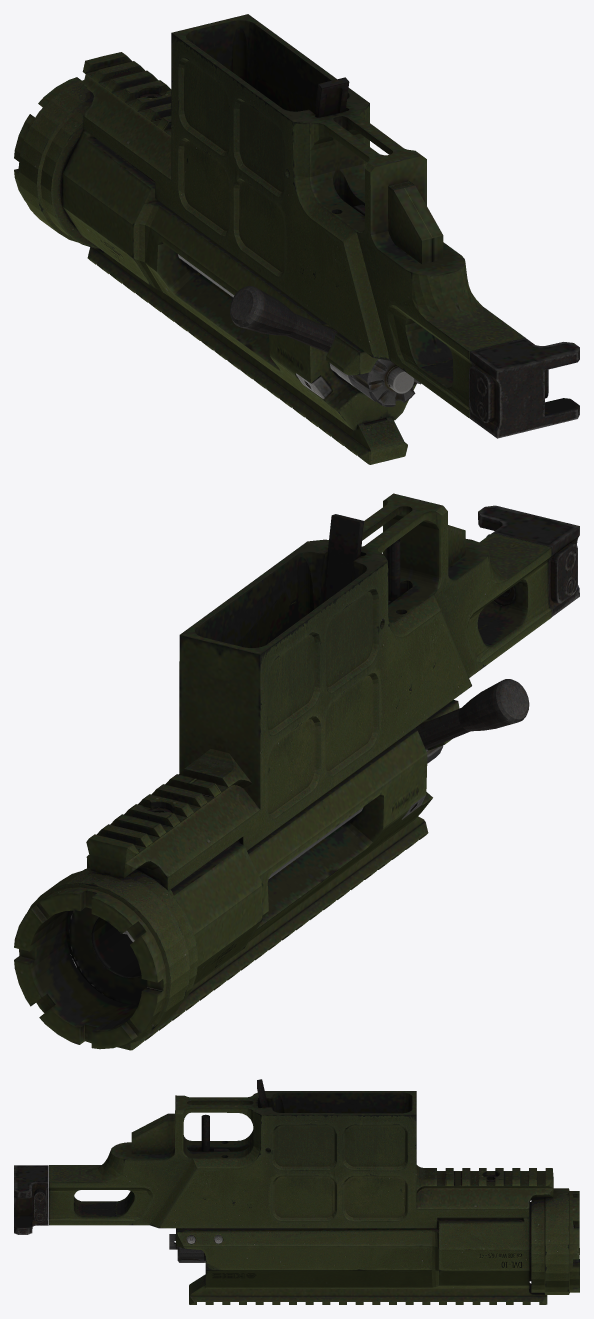
3 renders of one model, top to bottom at view 1: azimuth 30°, elevation 25°; view 2: azimuth 150°, elevation 25°; view 3: azimuth 270°, elevation 25°, orthographic. The views are drawn at different scales.
Visible parts, largest first — view 1: TW_588892092459774ac91d4b11_PZ_Import; view 2: TW_588892092459774ac91d4b11_PZ_Import; view 3: TW_588892092459774ac91d4b11_PZ_Import.
Boxes of the visible parts, left/top/right/bottom form: TW_588892092459774ac91d4b11_PZ_Import: left=14, top=14, right=579, bottom=464; TW_588892092459774ac91d4b11_PZ_Import: left=14, top=493, right=579, bottom=1050; TW_588892092459774ac91d4b11_PZ_Import: left=14, top=1079, right=579, bottom=1304.
Size of the model in its own units: 0.0523 by 0.1961 by 0.0826.
1 material, 1 textured.
